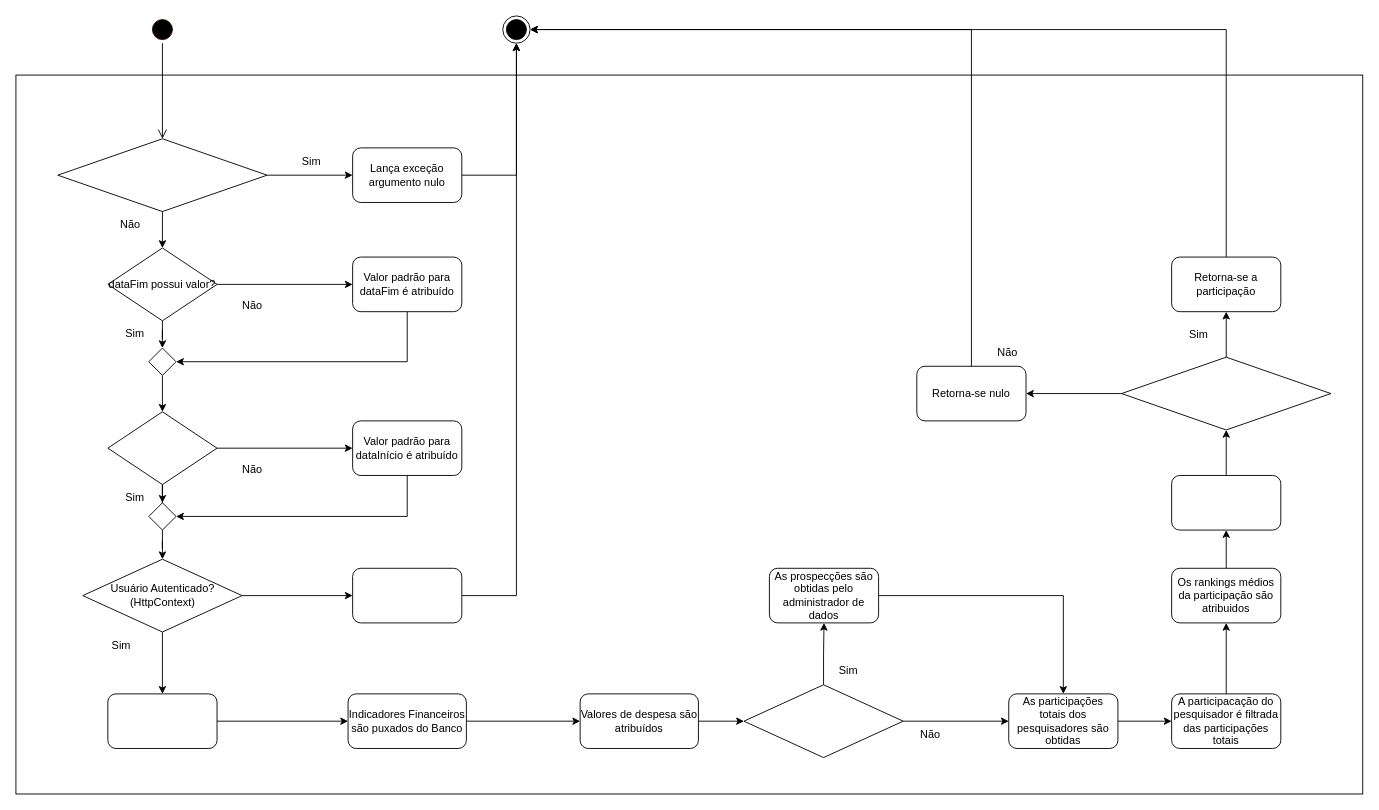
Some shapes in this 1379 by 810 pixel diagram are drawn without their labels. Each missing label, with the box of its shape:
_prospeccoes.Count é igual a 0?: (743, 684, 903, 758)
A participação do pesquisador foi encontrada?: (1121, 356, 1331, 430)
dataInicio possui valor?: (107, 411, 217, 485)
idUsuario nulo ou vazio?: (57, 138, 267, 212)
Os dados do gráfico de prospecções são computados: (1171, 475, 1281, 530)
Retorna View Acesso Proibido: (352, 567, 462, 623)
ViewbagizarUsuario: (107, 693, 217, 748)
